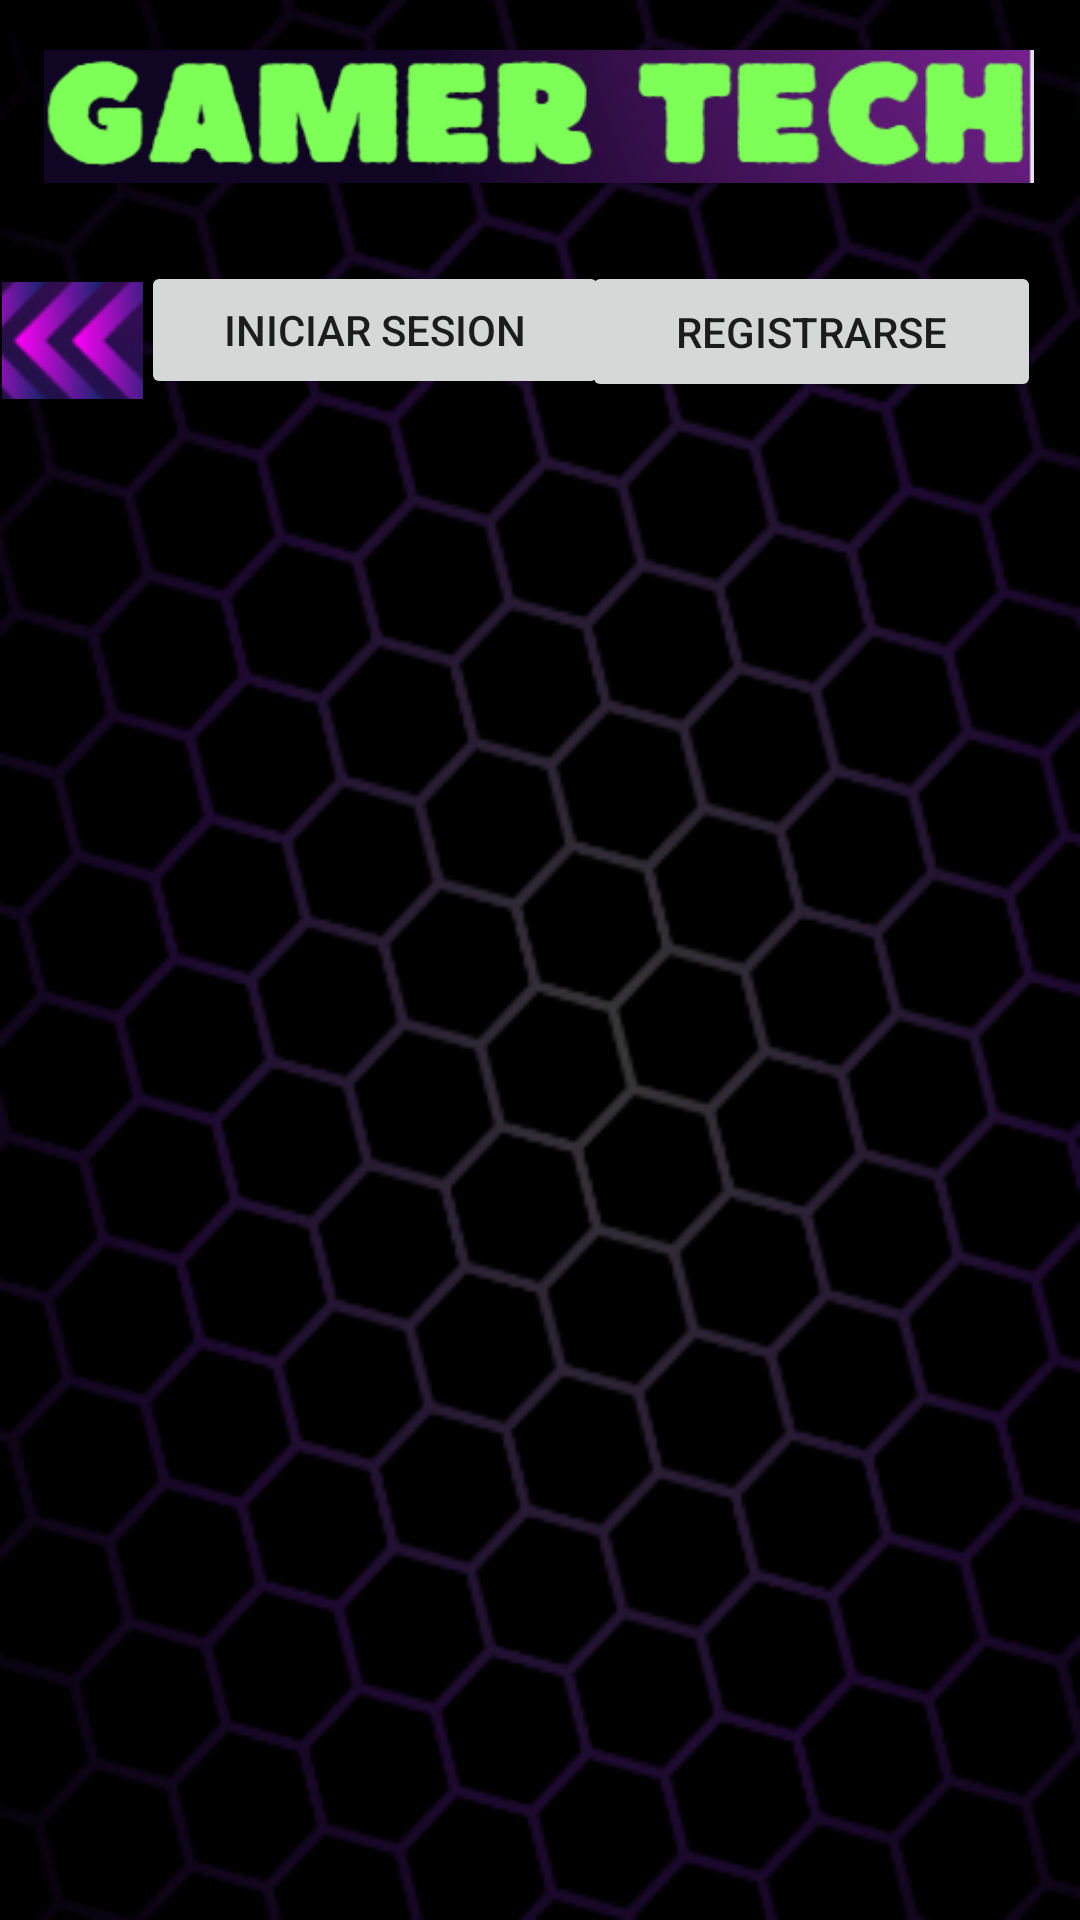

Icon click points for this 1080*1920 phone screenshot, format (x=x, y=y):
flechaizquierda: (x=72, y=340)
